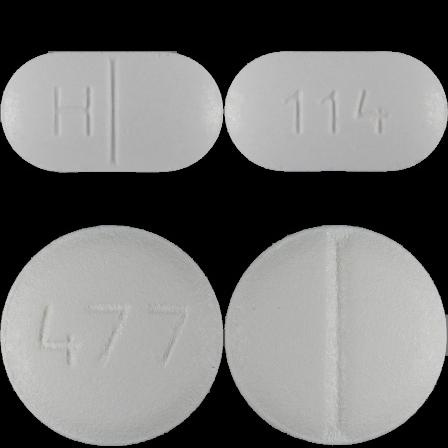35356-887: (0, 0, 224, 224)
